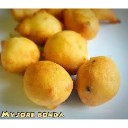bonda: (22, 61, 74, 110), (78, 56, 123, 103), (18, 13, 64, 41), (67, 8, 100, 38)
